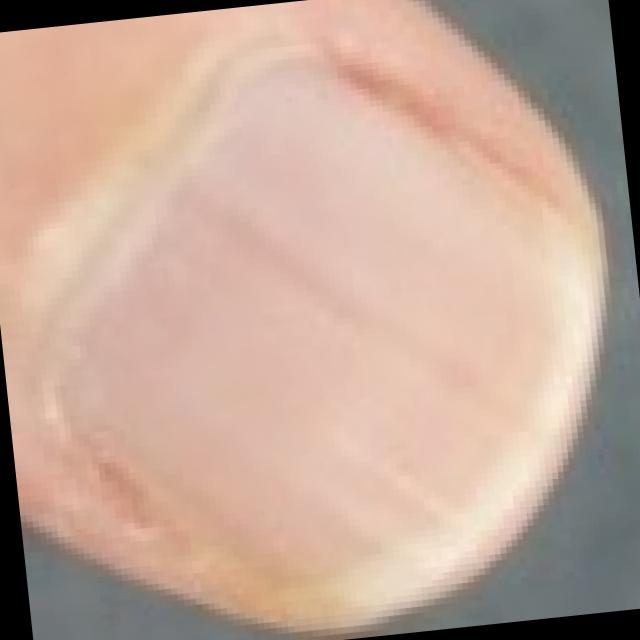Nail: (58, 55, 584, 605)
